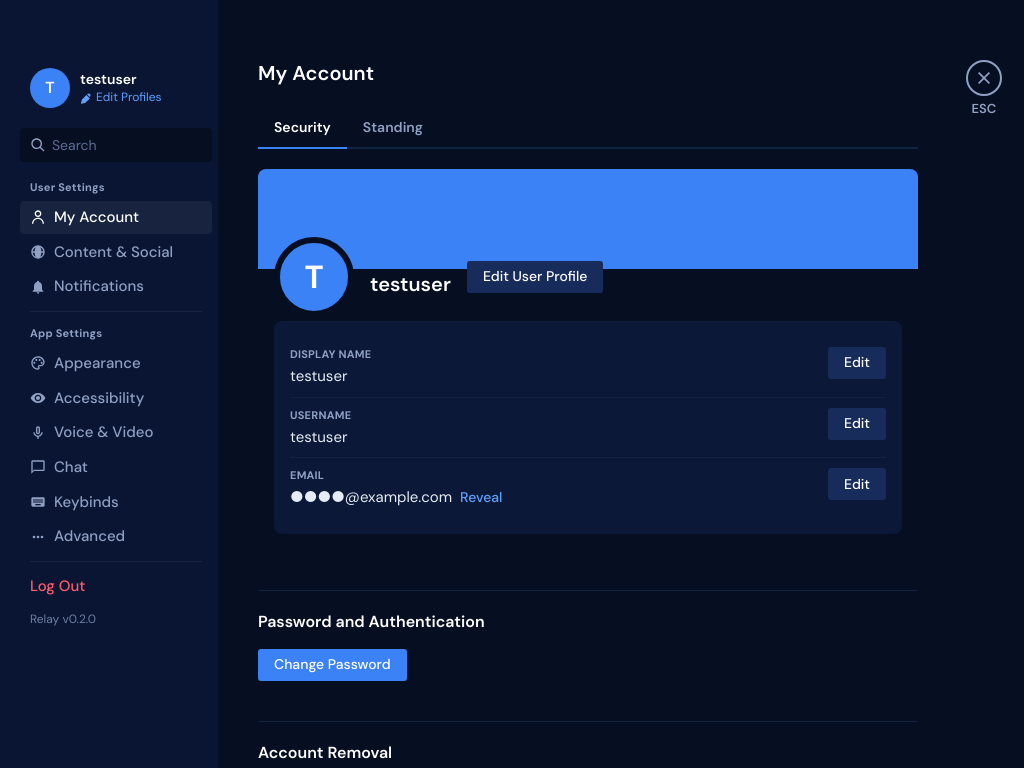
Test: UserSettings › switches sections when nav items are clicked
Click the button "Appearance": (116, 363) [20, 347, 212, 380]
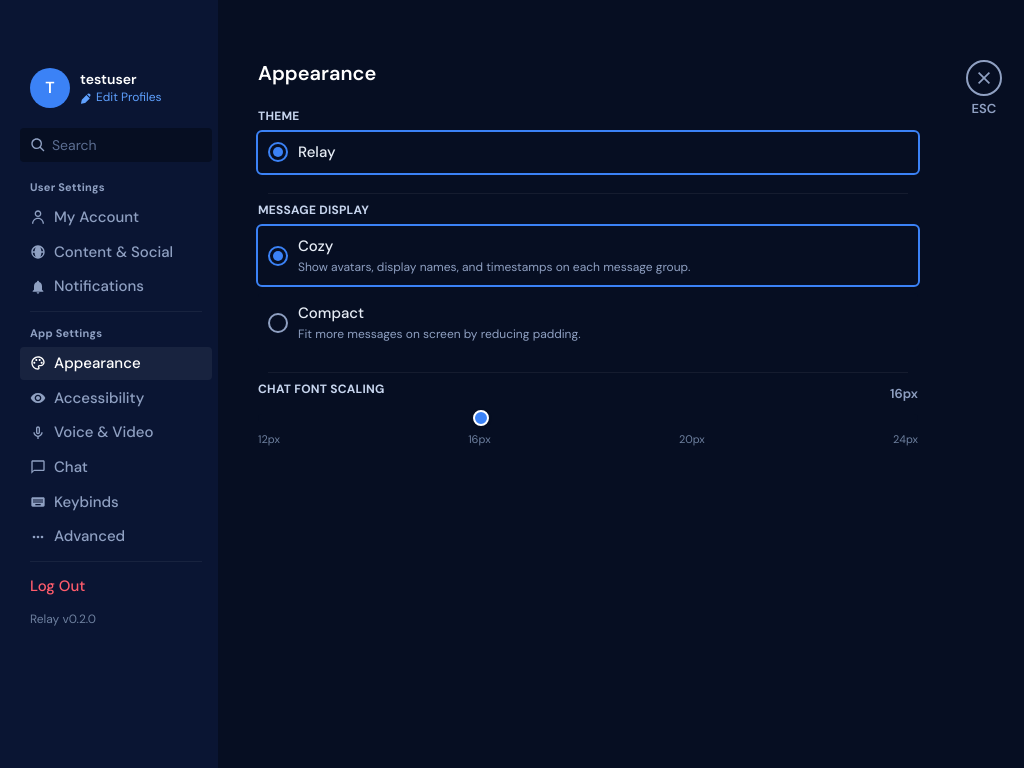
Check: the text "THEME" is shown, box [258, 108, 300, 124]
